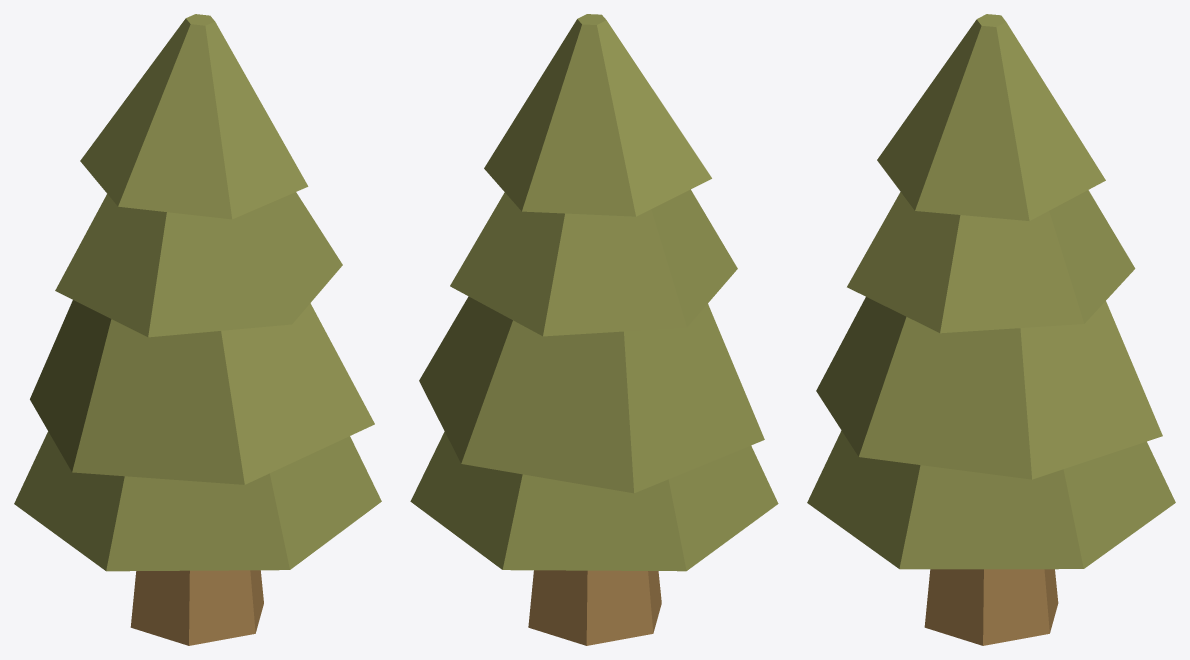
The model's file is tree_team_130.fbx.
3 renders of one model, left to right at view 1: azimuth 30°, elevation 25°; view 2: azimuth 150°, elevation 25°; view 3: azimuth 270°, elevation 25°, orthographic.
Visible parts, largest first — view 1: Cylinder.002, Cylinder.001, Cylinder.003, Cylinder.004, Cylinder; view 2: Cylinder.002, Cylinder.001, Cylinder.003, Cylinder.004, Cylinder; view 3: Cylinder.002, Cylinder.001, Cylinder.003, Cylinder.004, Cylinder.
Boxes of the visible parts, x1,y1,x2,y2 form: Cylinder.002: (30,300,374,484); Cylinder.001: (14,431,381,571); Cylinder.003: (55,192,342,337); Cylinder.004: (80,14,308,219); Cylinder: (130,570,263,645); Cylinder.002: (419,296,764,493); Cylinder.001: (410,431,778,571); Cylinder.003: (450,189,737,336); Cylinder.004: (484,14,711,216); Cylinder: (528,570,661,645); Cylinder.002: (816,297,1162,479); Cylinder.001: (807,430,1175,569); Cylinder.003: (847,190,1135,333); Cylinder.004: (877,14,1105,220); Cylinder: (924,569,1058,645).
Size of the model in its own units: 203 by 382 by 214.
